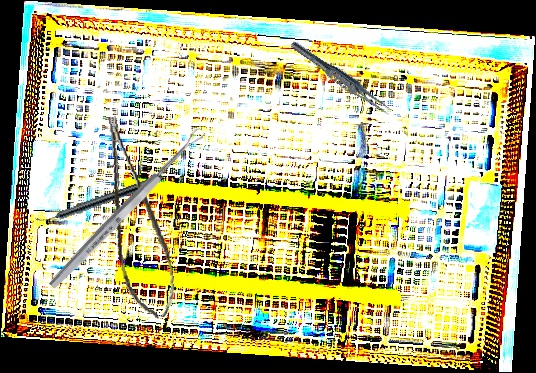Handpiece: (34, 171, 166, 229)
Micro Scissor: (100, 111, 181, 322)
Surgical Spoon: (46, 125, 208, 292)
Tissue Forceps: (287, 38, 396, 119)
